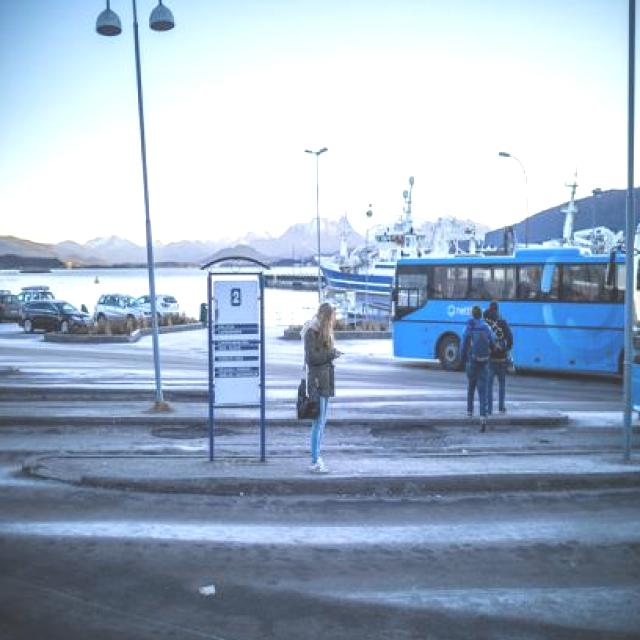ship: (314, 164, 586, 311)
